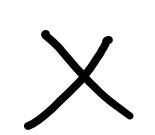mult: (22, 31, 134, 130)
